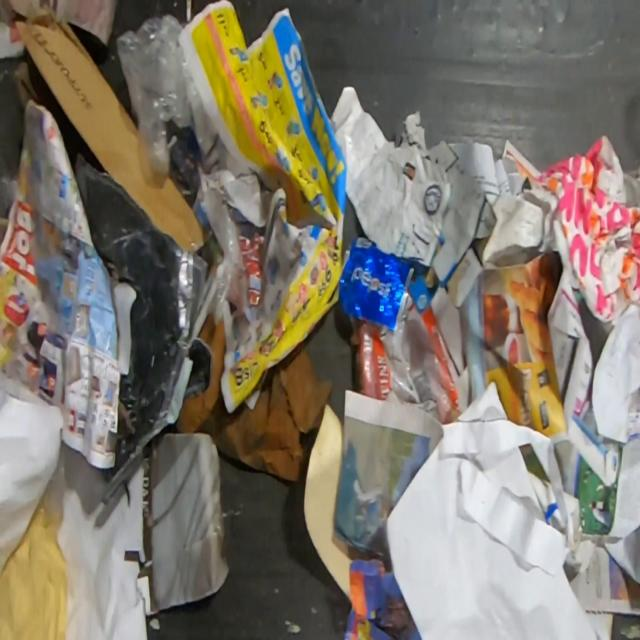cardboard: (12, 9, 210, 255), (174, 310, 335, 482)
metal: (338, 236, 414, 330)
rigid_plastic: (28, 452, 64, 524)
soft_plastic: (116, 12, 201, 180), (356, 307, 459, 420), (0, 174, 17, 243)
